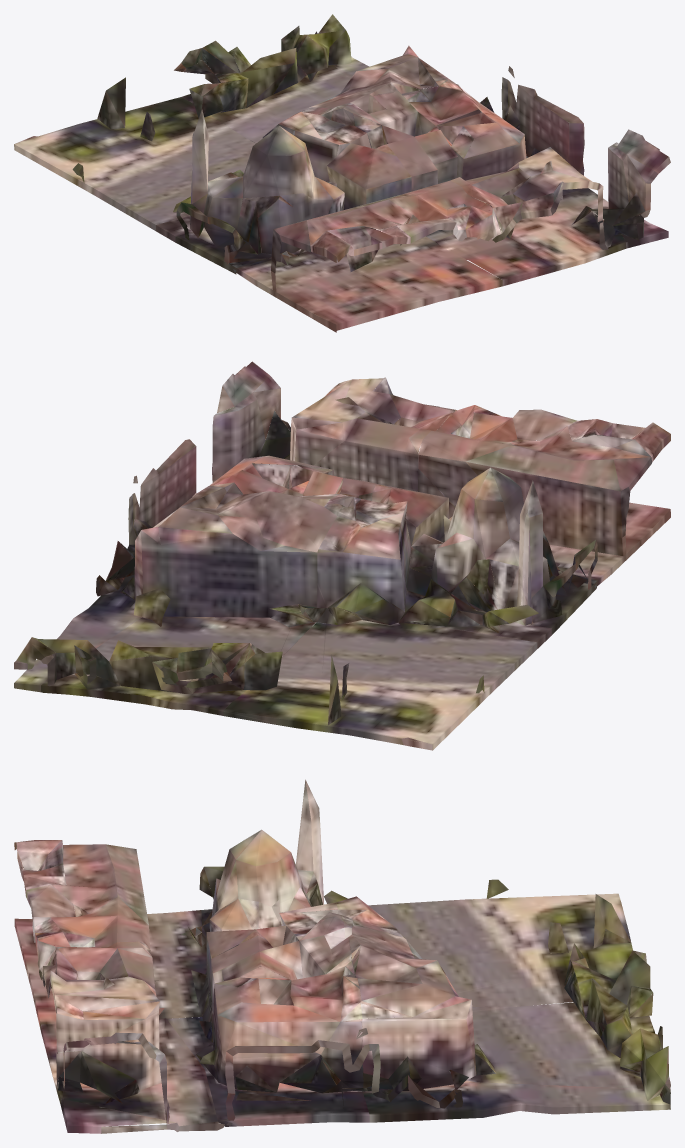
3 renders of one model, top to bottom at view 1: azimuth 30°, elevation 25°; view 2: azimuth 150°, elevation 25°; view 3: azimuth 270°, elevation 25°, orthographic. The views are drawn at different scales.
Parts seen in each view (by area): view 1: Mesh_0; view 2: Mesh_0; view 3: Mesh_0.
Part boxes in pixels (left/top/right/bottom): Mesh_0: left=14, top=14, right=670, bottom=332; Mesh_0: left=14, top=361, right=670, bottom=750; Mesh_0: left=14, top=779, right=670, bottom=1133.
Bounding box in the file's own units: 134 × 44.96 × 165.
Materials: 2 (2 with a texture image).
